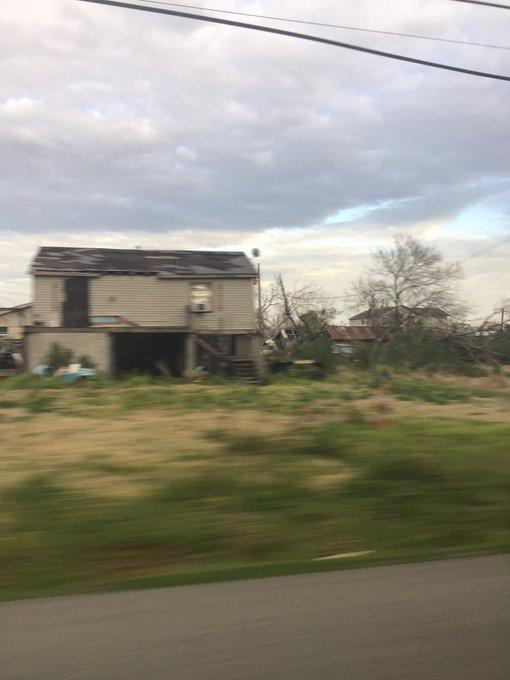minor: (0, 232, 288, 382)
